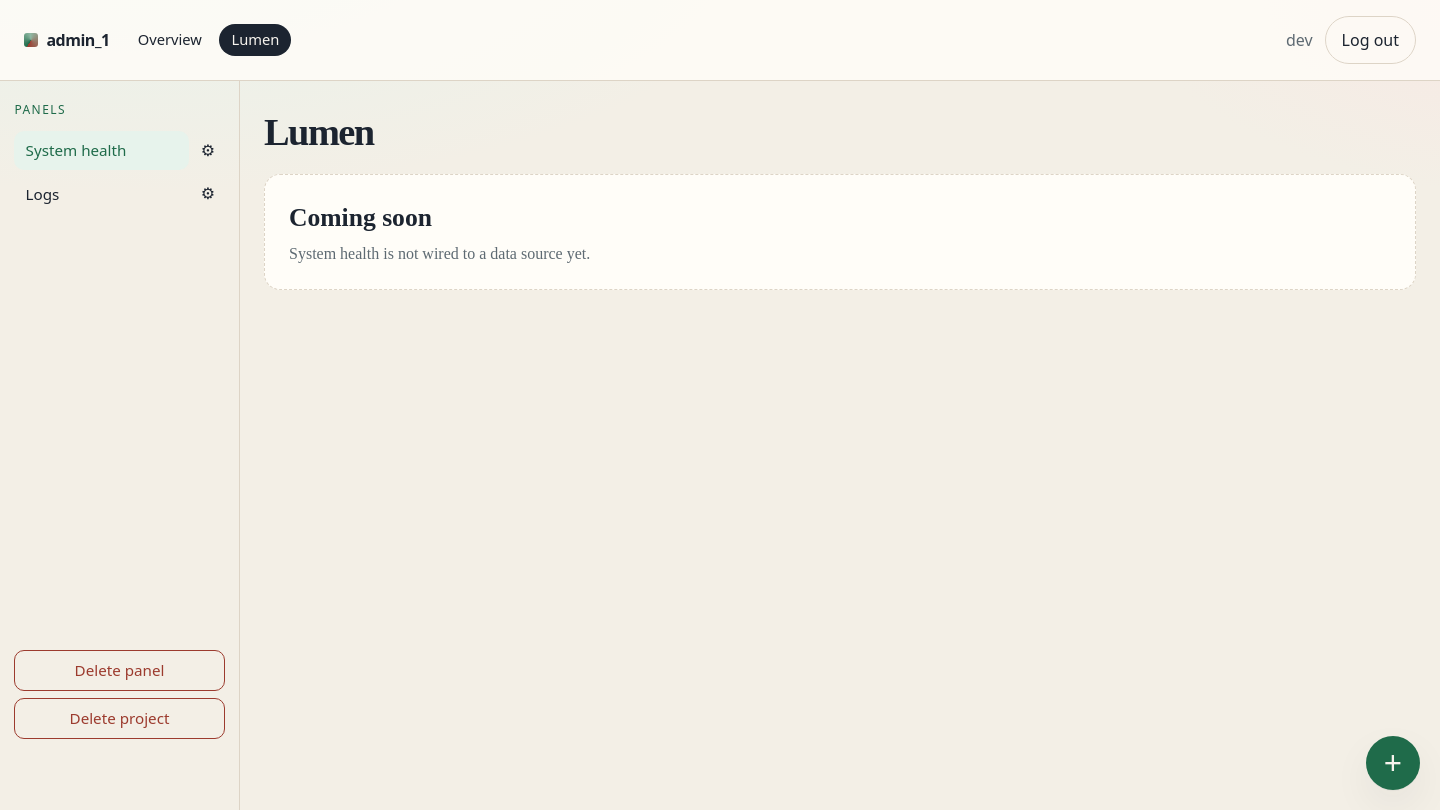
Test: delete panel › keeps confirm disabled until DELETE and opens the next panel
This screenshot has width=1440, height=810.
Click the button "Delete panel" at [120, 670], box [14, 650, 225, 691]
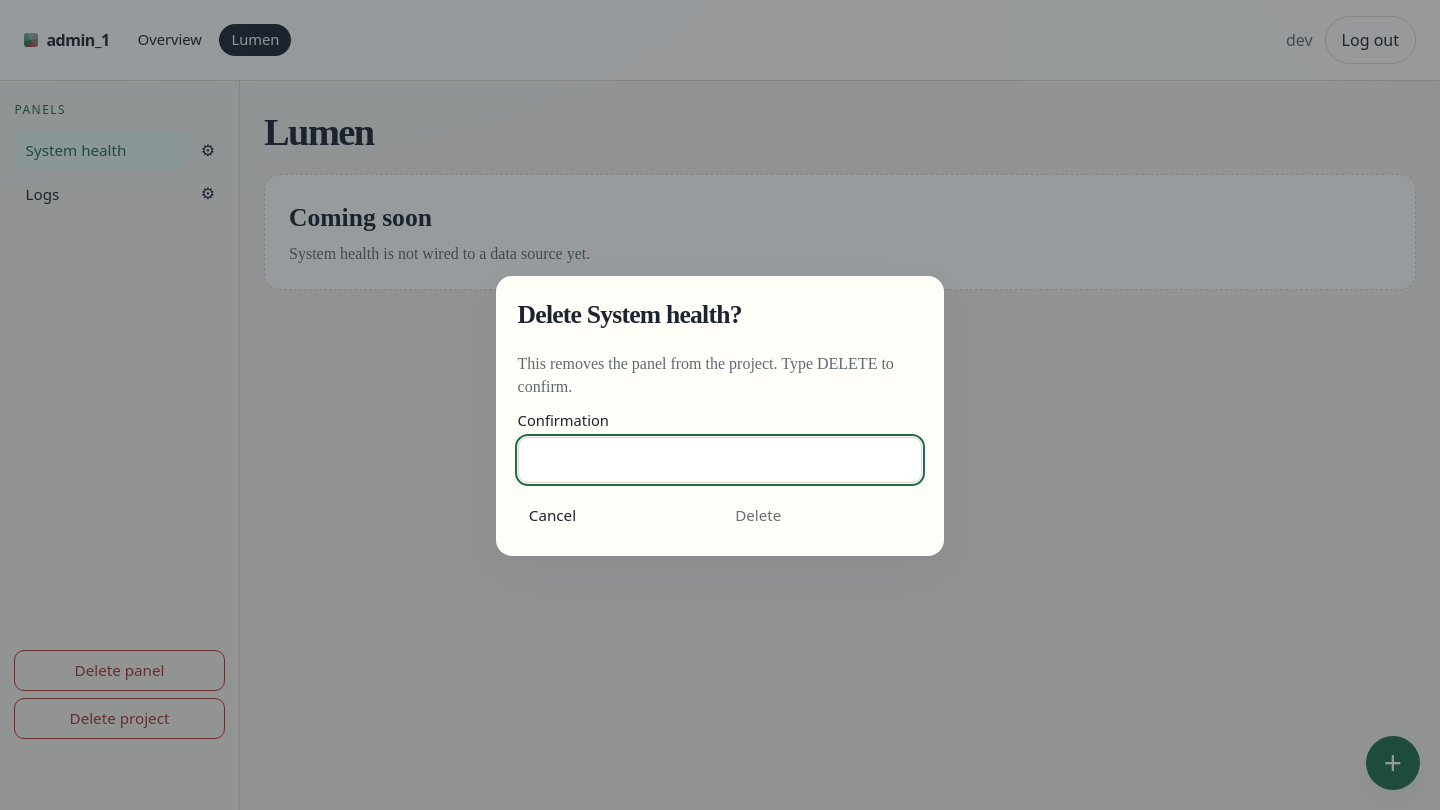
Expected: the button "Delete" is disabled, [724, 495, 922, 534]
Type "delete" into the field labelled "Confirmation" at [720, 460], box [518, 437, 922, 483]
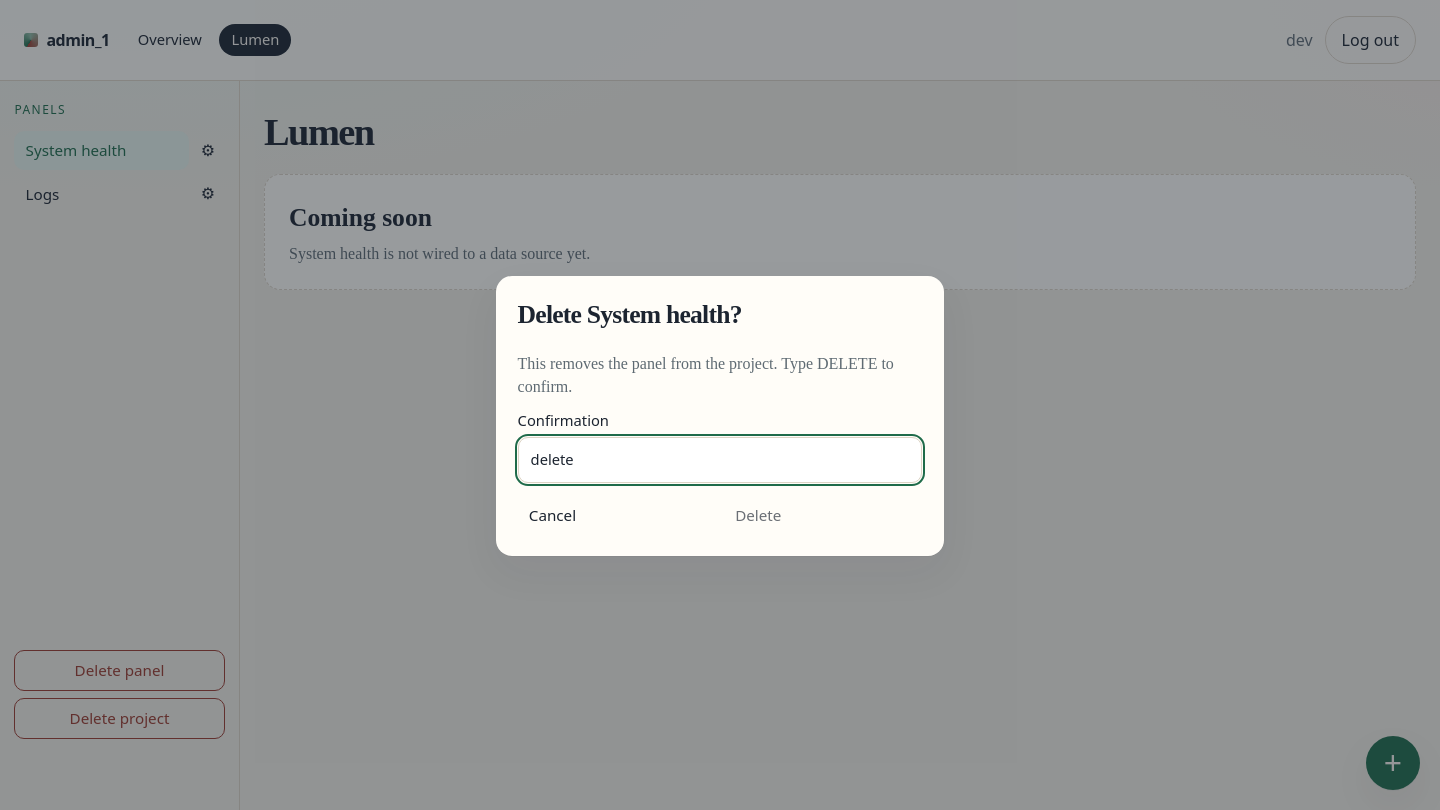
Expected: the button "Delete" is disabled, [724, 495, 922, 534]
Replace the text in the field labelled "Confirmation" with "DELETE" at [720, 460], box [518, 437, 922, 483]
Then press Enter
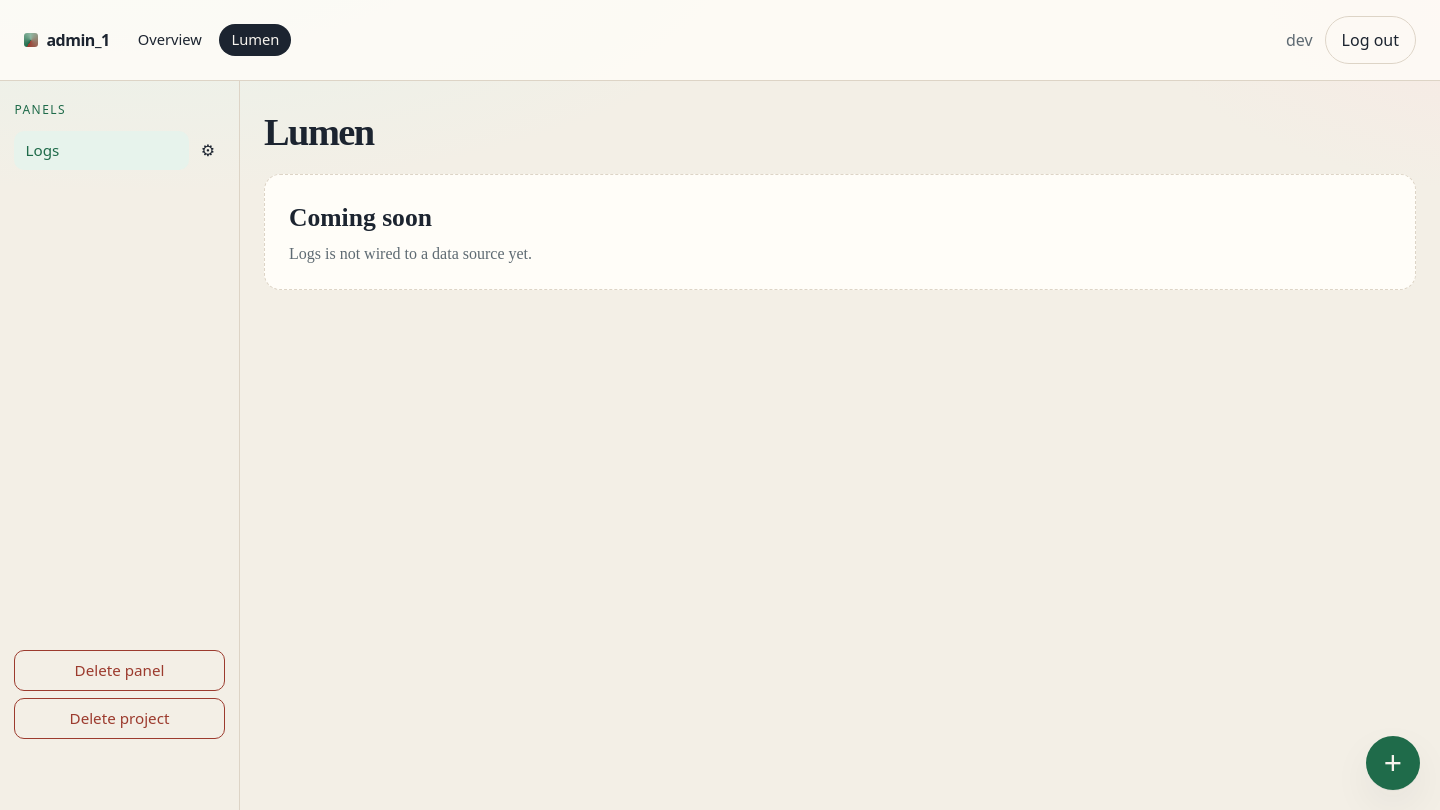
Expected: the link "Lumen" is shown, [220, 24, 292, 56]
Expected: the heading "Delete System health?" is gone
Expected: the button "System health" is gone
